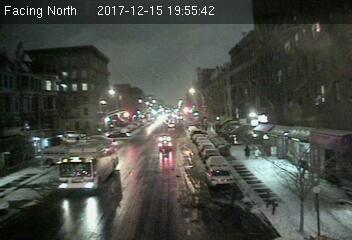bus: (55, 140, 119, 190)
car: (206, 168, 233, 188), (206, 157, 231, 171), (158, 140, 172, 150), (157, 134, 171, 141)
pedestrian: (243, 144, 253, 162)
